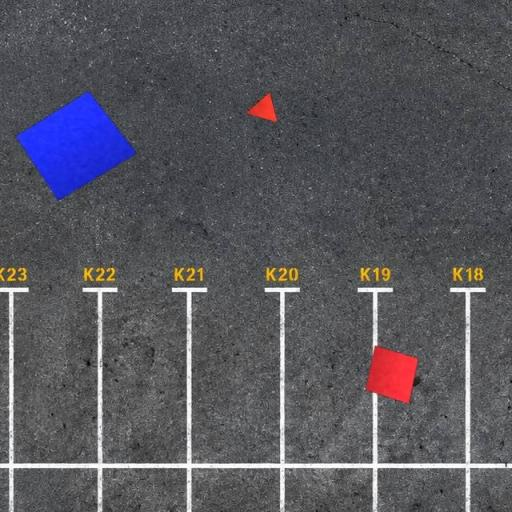BLUE_SQUARE: (15, 90, 138, 202)
RED_SQUARE: (366, 345, 419, 405)
